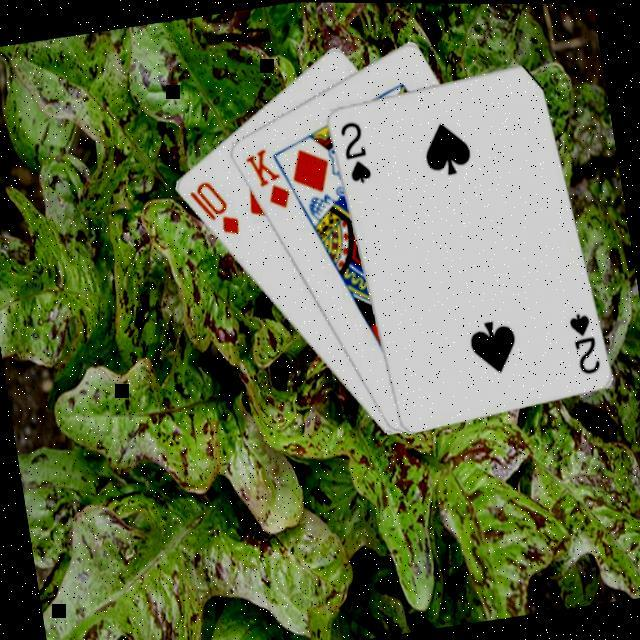10D: (183, 172, 243, 243)
2S: (563, 304, 603, 378), (334, 115, 374, 187)
KD: (239, 140, 294, 216)
